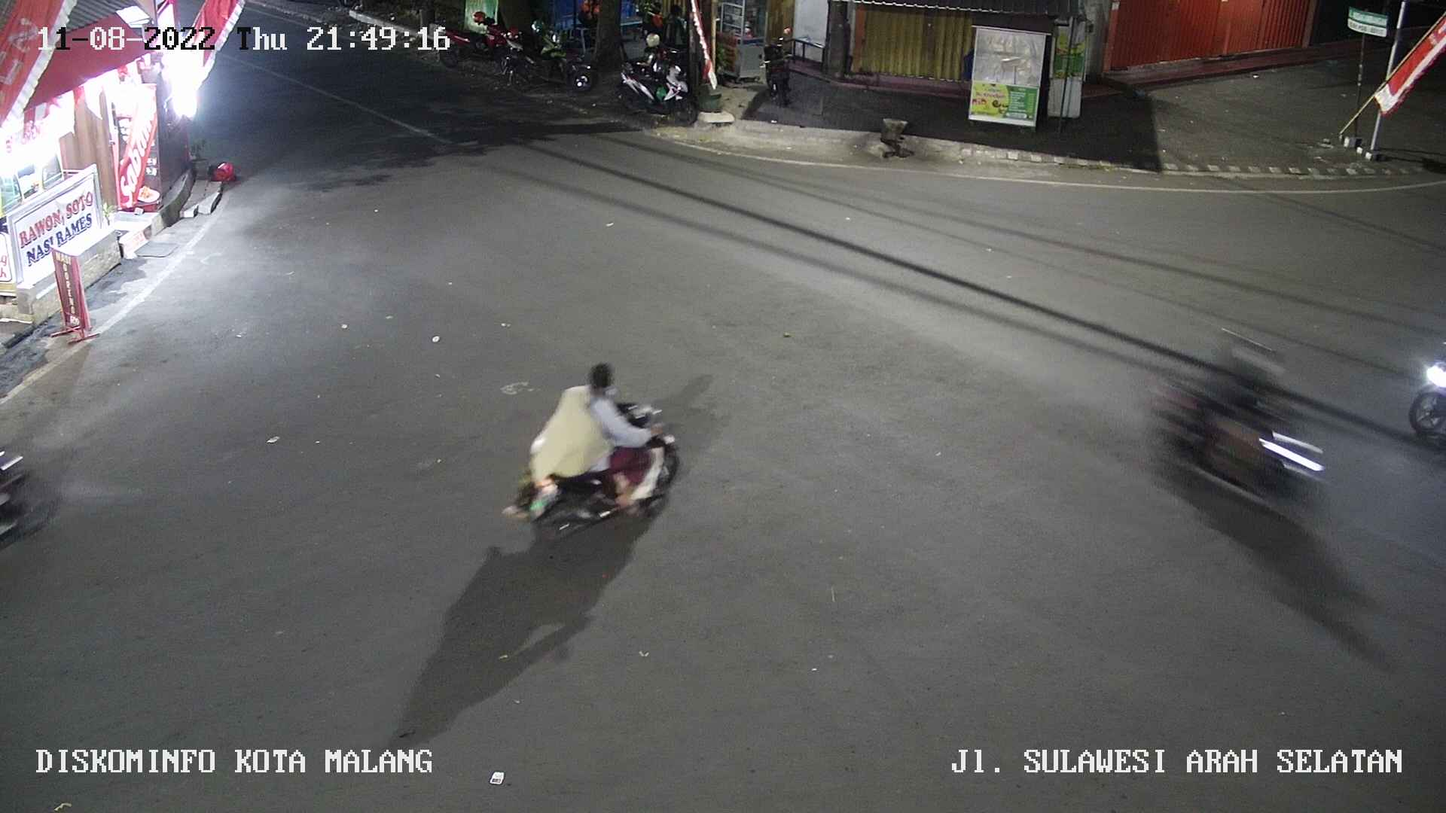without_helmet: (506, 349, 694, 555)
